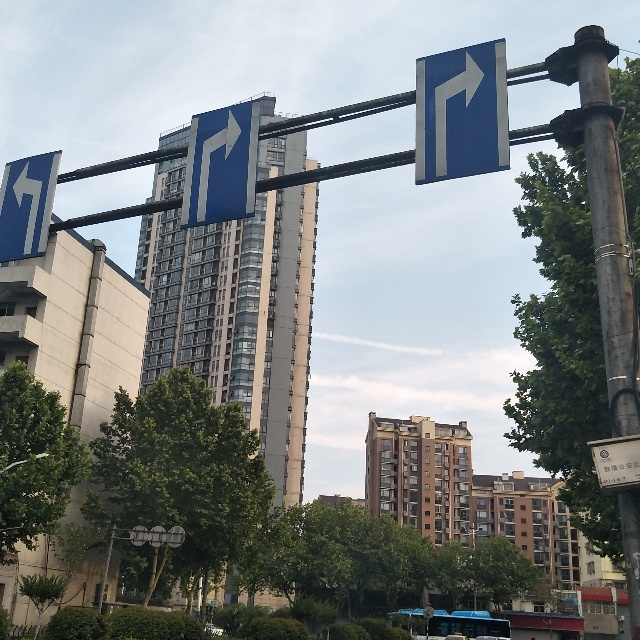left: (2, 152, 59, 267)
right: (412, 36, 511, 189), (181, 102, 268, 227)
